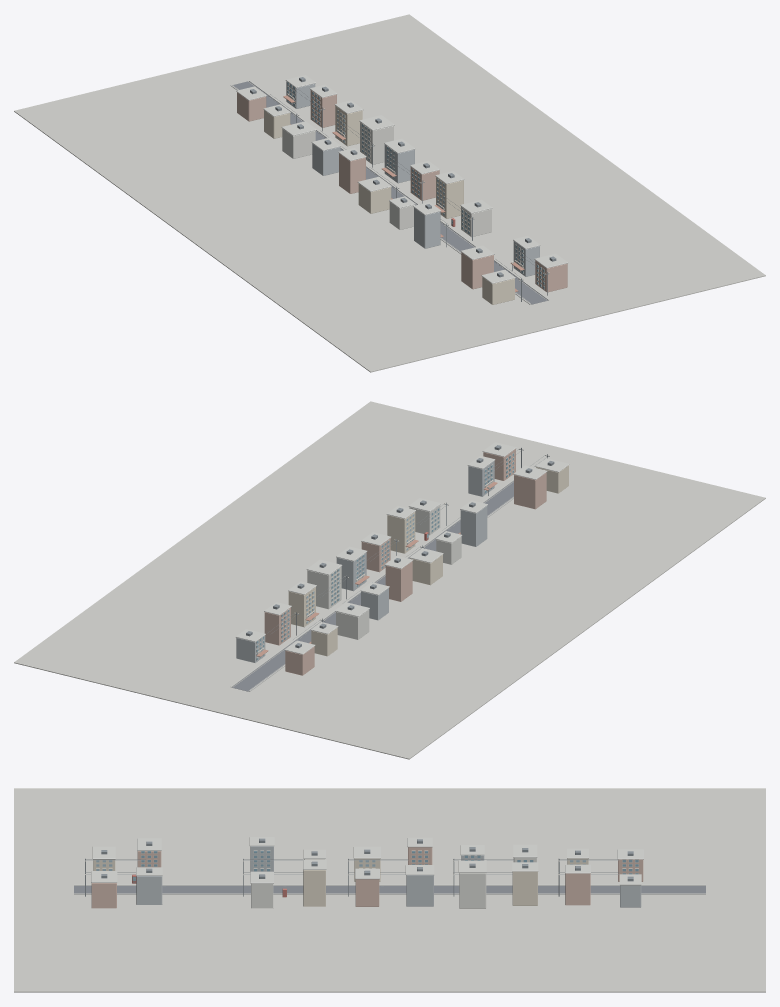
The model's file is city_day_road.glb.
3 views of the same model, one above another, from view 1: azimuth 30°, elevation 25°; view 2: azimuth 150°, elevation 25°; view 3: azimuth 270°, elevation 25° (orthographic). The views are drawn at different scales.
Visible parts, largest first — view 1: Static.Pavement, Static.Concrete, Static.Wall.peach, Static.Wall.cream, Static.Wall.silver, Static.Wall.ivory, Static.Asphalt, Static.Frame, Static.Steel, Static.Window; view 2: Static.Pavement, Static.Concrete, Static.Wall.peach, Static.Wall.silver, Static.Wall.cream, Static.Wall.ivory, Static.Asphalt, Static.Frame, Static.Steel, Static.Window; view 3: Static.Pavement, Static.Concrete, Static.Asphalt, Static.Wall.peach, Static.Wall.silver, Static.Wall.cream, Static.Steel, Static.Wall.ivory, Static.Frame, Static.Line, Static.Window.
Boxes of the visible parts, x1=… form: Static.Pavement: x1=14, y1=14, x2=765, y2=372; Static.Concrete: x1=230, y1=75, x2=567, y2=304; Static.Wall.peach: x1=237, y1=90, x2=567, y2=292; Static.Wall.cream: x1=264, y1=106, x2=514, y2=304; Static.Wall.silver: x1=286, y1=81, x2=539, y2=276; Static.Wall.ivory: x1=282, y1=122, x2=491, y2=237; Static.Asphalt: x1=232, y1=81, x2=547, y2=304; Static.Frame: x1=287, y1=82, x2=549, y2=289; Static.Steel: x1=250, y1=77, x2=556, y2=301; Static.Window: x1=287, y1=82, x2=544, y2=288; Static.Pavement: x1=14, y1=401, x2=765, y2=759; Static.Concrete: x1=230, y1=442, x2=569, y2=691; Static.Wall.peach: x1=264, y1=449, x2=546, y2=675; Static.Wall.silver: x1=236, y1=461, x2=494, y2=662; Static.Wall.cream: x1=288, y1=465, x2=568, y2=656; Static.Wall.ivory: x1=307, y1=505, x2=461, y2=639; Static.Asphalt: x1=232, y1=481, x2=513, y2=691; Static.Frame: x1=256, y1=448, x2=549, y2=660; Static.Steel: x1=246, y1=445, x2=554, y2=648; Static.Window: x1=256, y1=453, x2=513, y2=660; Static.Pavement: x1=14, y1=788, x2=765, y2=992; Static.Concrete: x1=74, y1=837, x2=705, y2=894; Static.Asphalt: x1=74, y1=885, x2=705, y2=893; Static.Wall.peach: x1=91, y1=847, x2=643, y2=908; Static.Wall.silver: x1=136, y1=846, x2=641, y2=907; Static.Wall.cream: x1=93, y1=858, x2=588, y2=906; Static.Steel: x1=85, y1=838, x2=633, y2=896; Static.Wall.ivory: x1=251, y1=857, x2=536, y2=908; Static.Frame: x1=85, y1=850, x2=638, y2=878; Static.Line: x1=74, y1=885, x2=705, y2=893; Static.Window: x1=132, y1=851, x2=638, y2=880.
Size of the model in its own units: 64 by 6.07 by 100.
